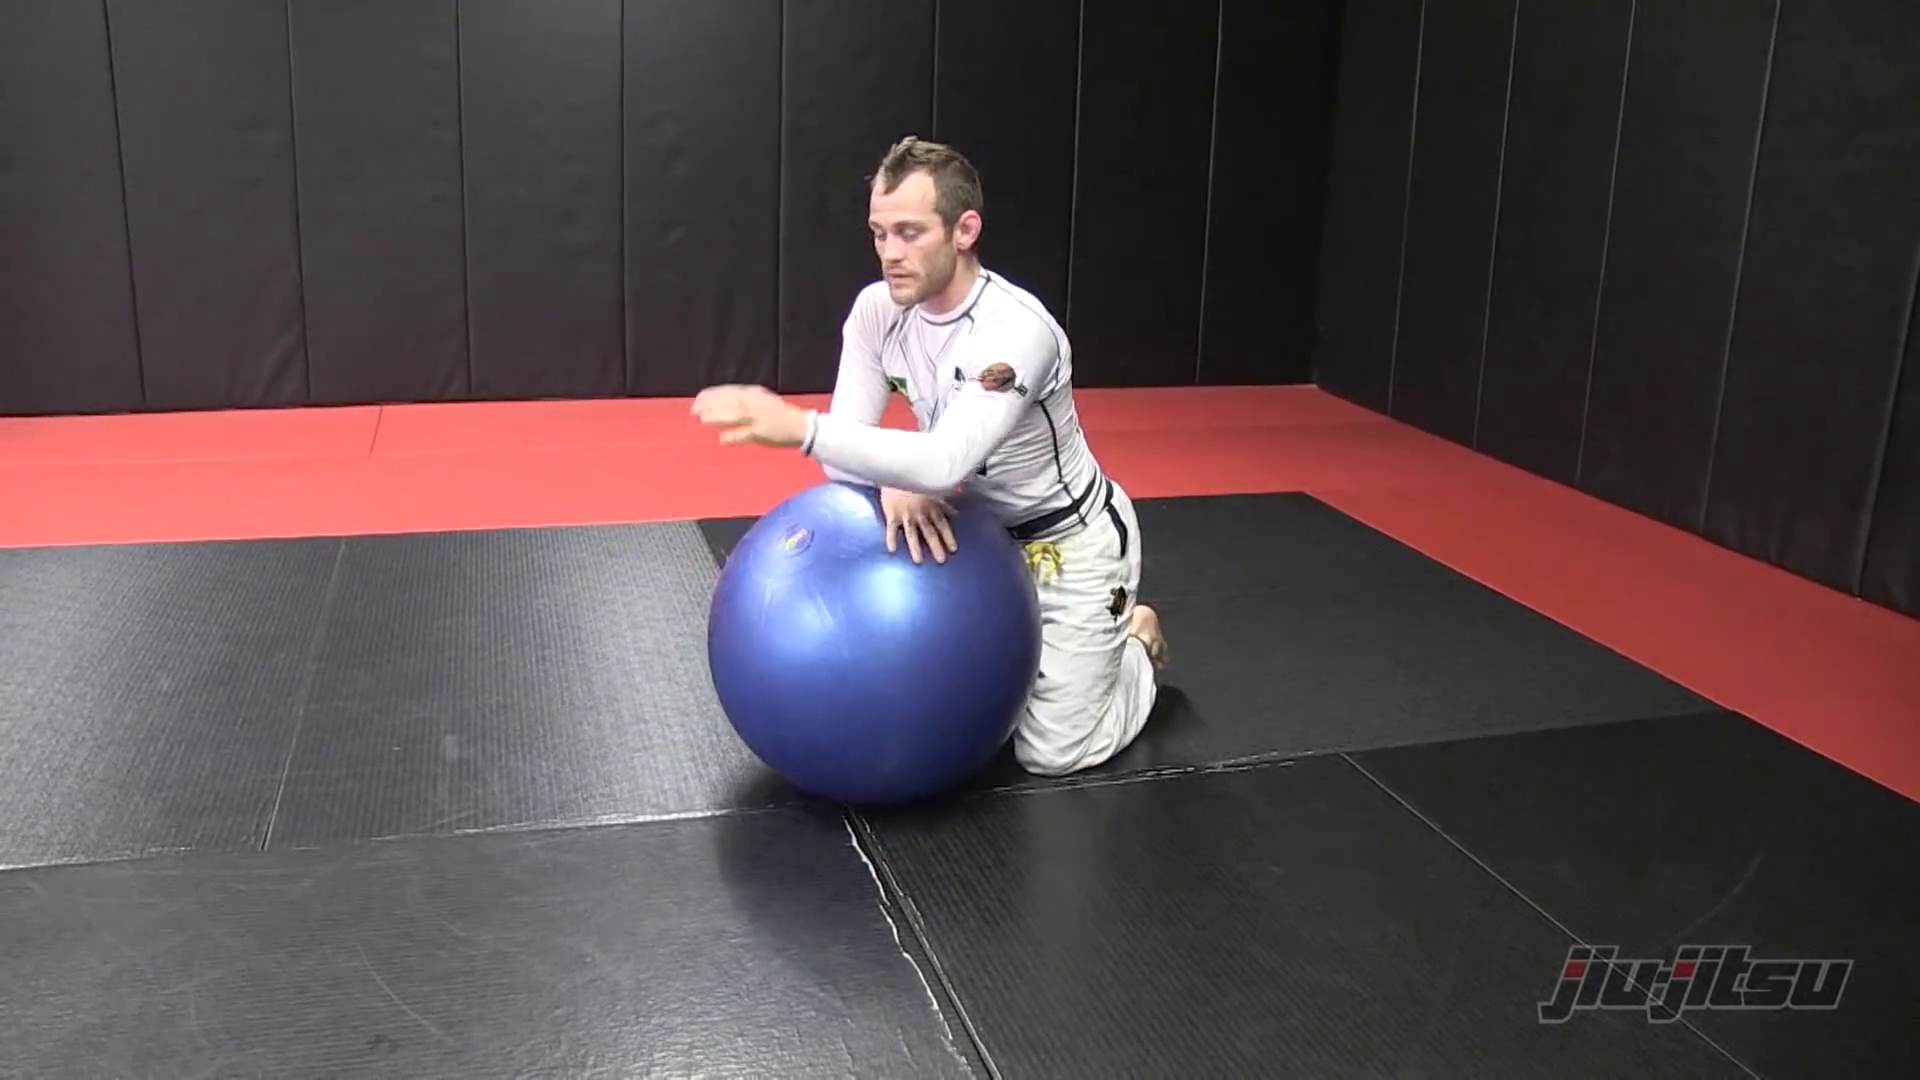yogaball: (678, 473, 1065, 827)
